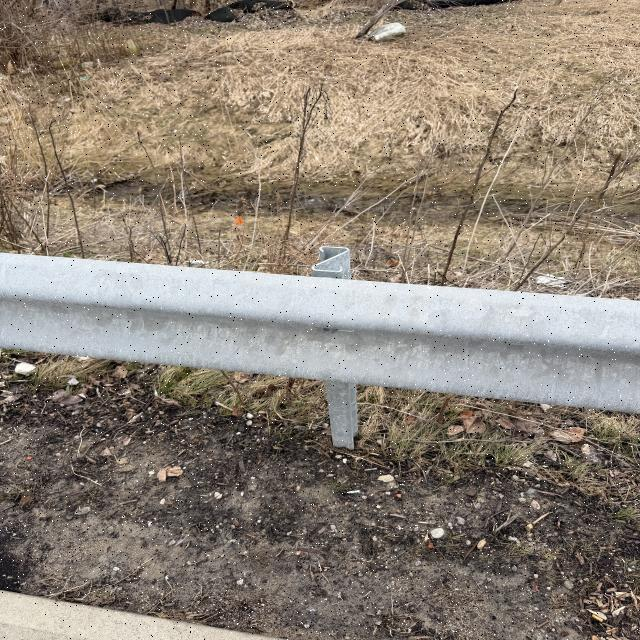Guard rail: (4, 260, 616, 404)
